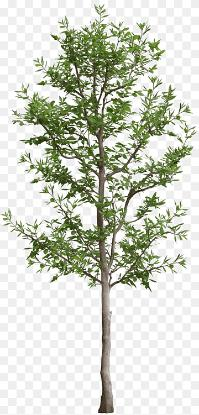tree: (6, 3, 192, 413)
